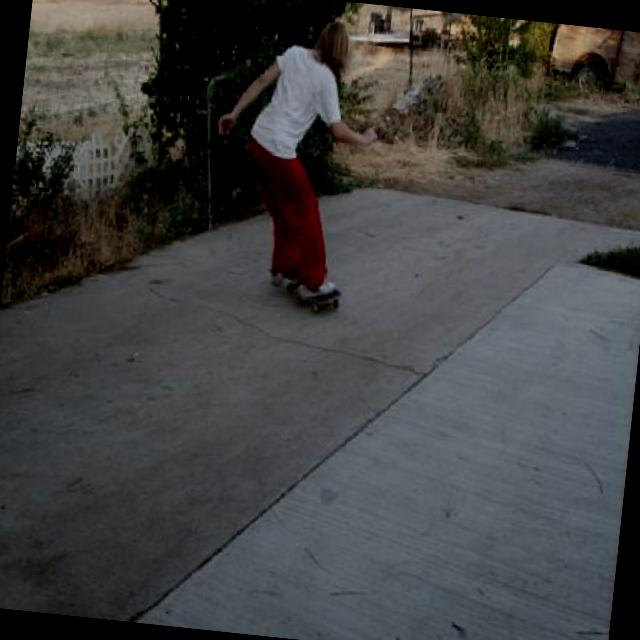Person: (198, 2, 390, 308)
